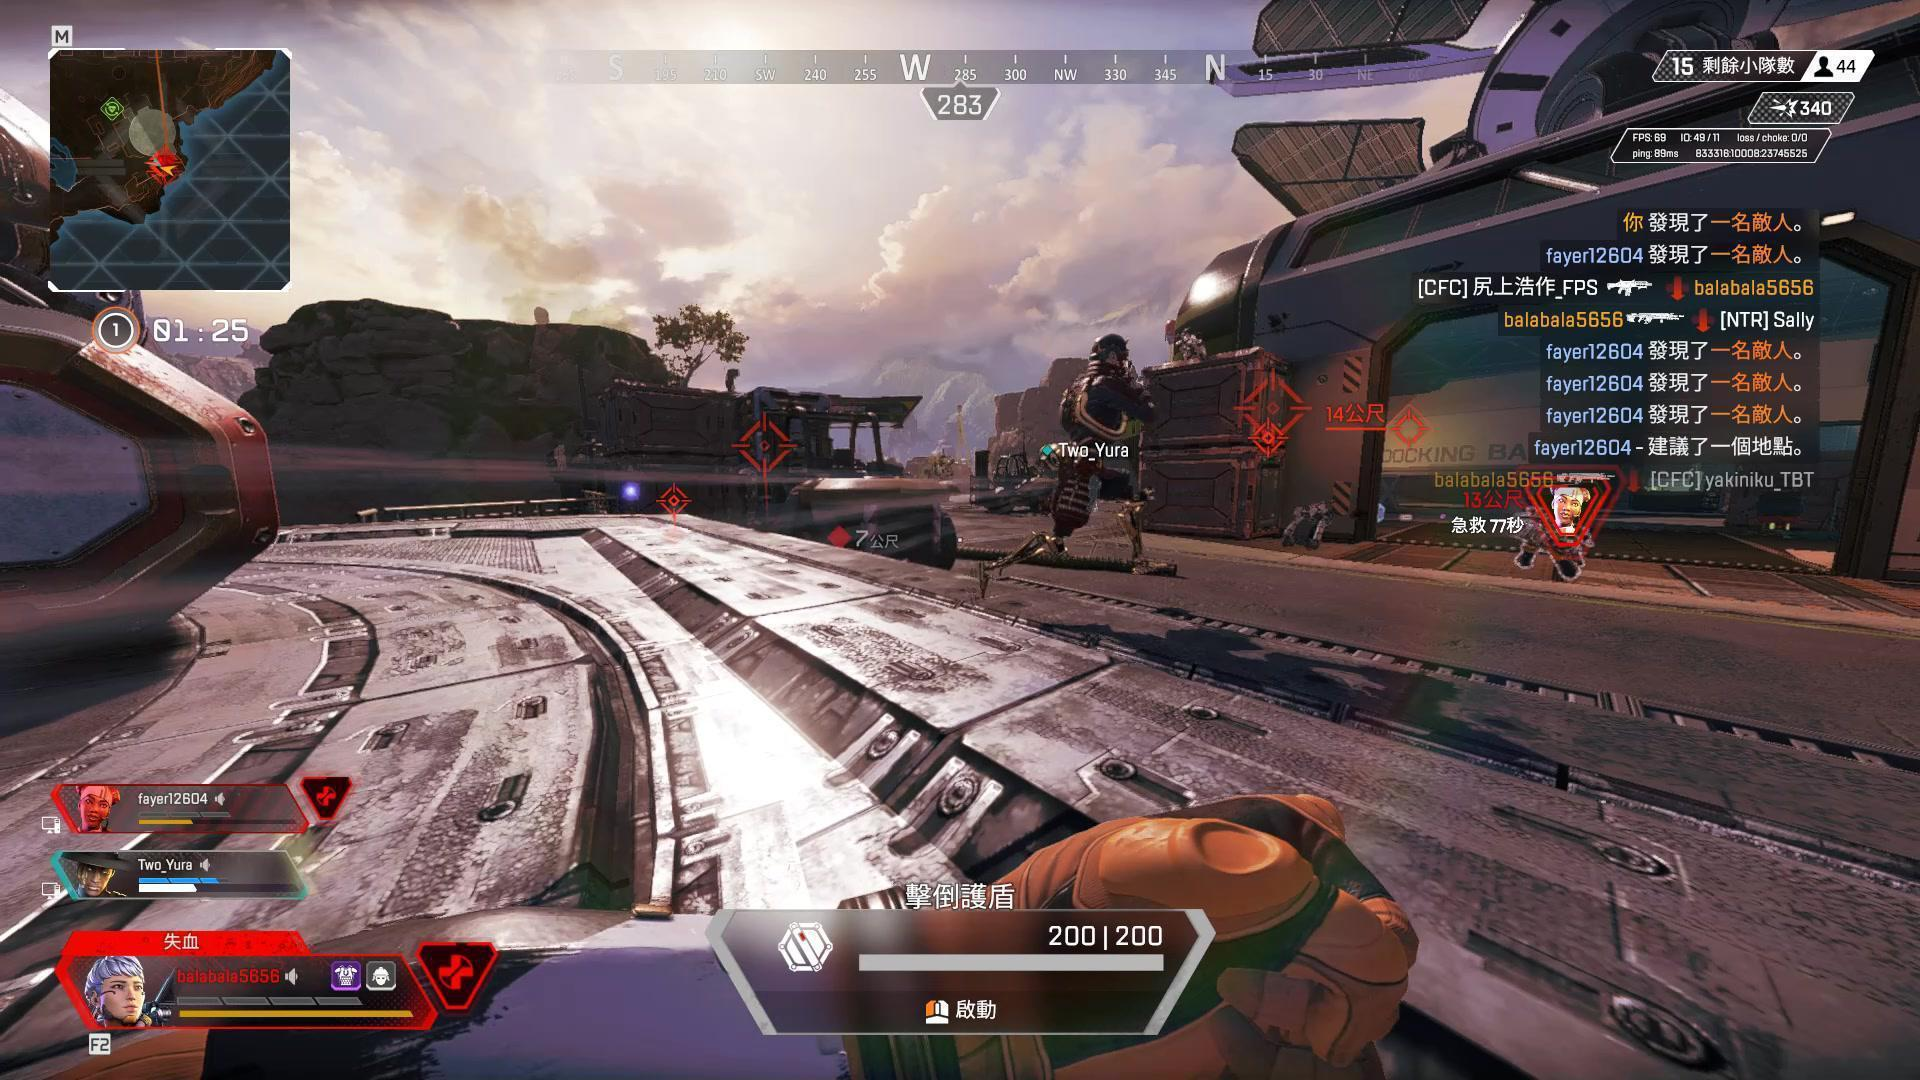avatar: (1045, 330, 1159, 579)
